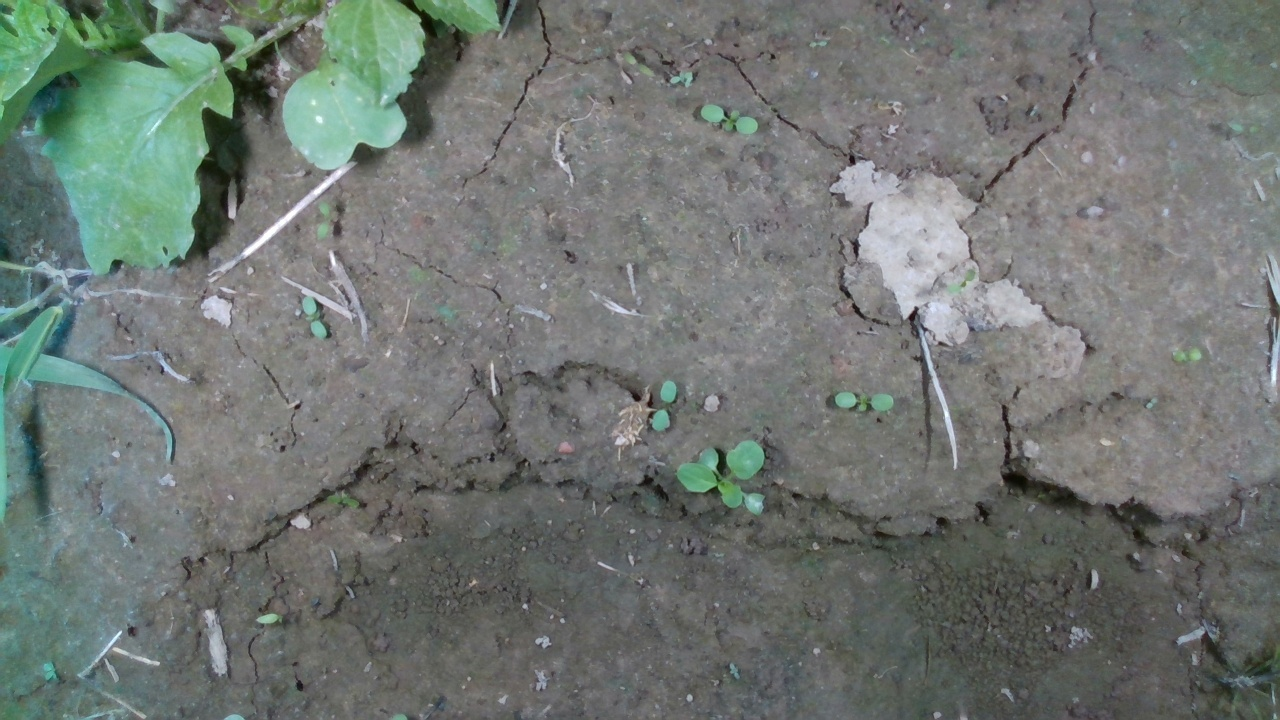weed: (699, 101, 759, 138), (833, 390, 894, 414), (651, 379, 676, 432), (301, 295, 328, 341), (314, 197, 338, 244), (621, 50, 656, 80), (1171, 345, 1202, 362), (42, 659, 58, 683), (1143, 396, 1159, 410)
